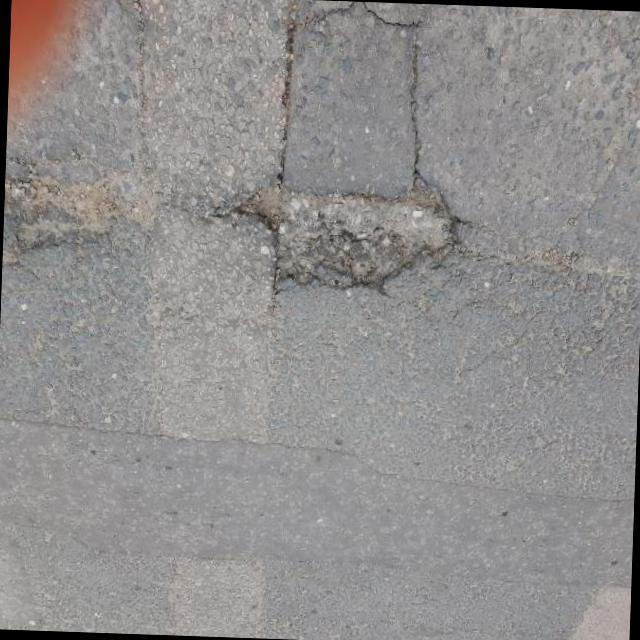pothole: (228, 170, 468, 306)
